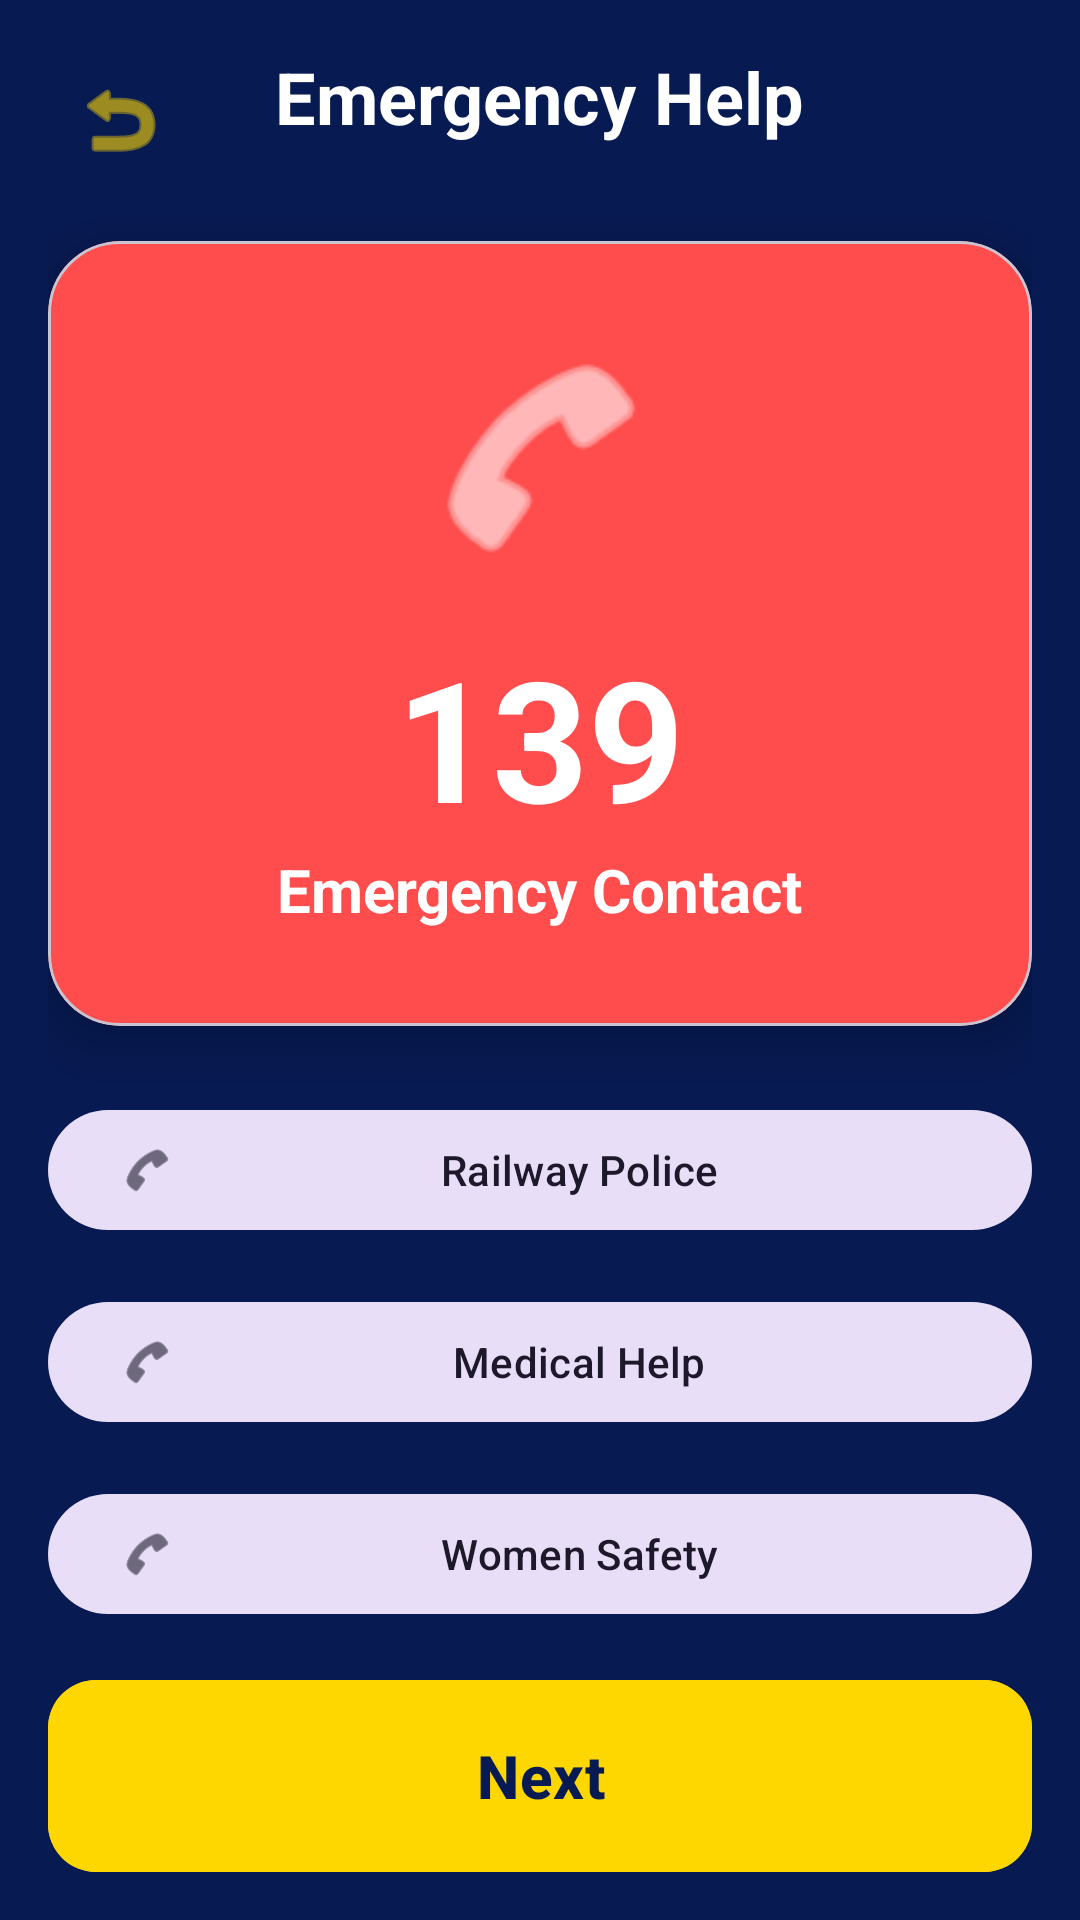

Icons on this 1080px x 1920px Android screen, each with the point to tap as (x=x, y=y):
Back: (x=121, y=120)
Call: (x=541, y=458)
